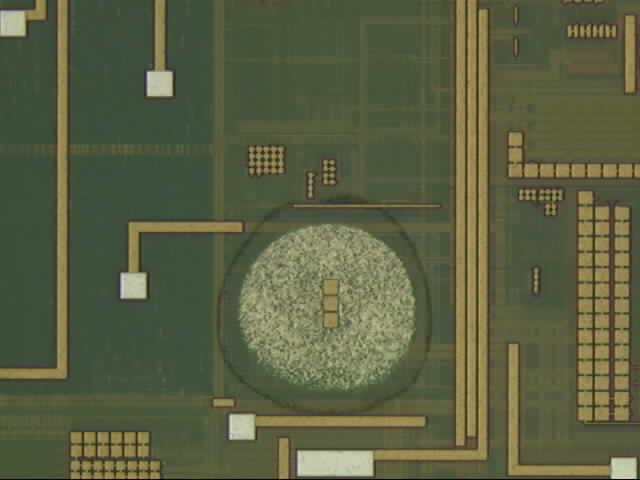BLOCK ETCH: (213, 189, 438, 421)
